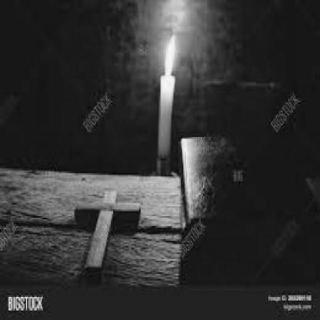Fire: (157, 31, 180, 81)
